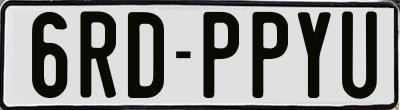6: (30, 12, 70, 98)
D: (126, 12, 165, 101)
P: (249, 9, 287, 101), (200, 10, 239, 96)
R: (78, 11, 117, 103)
U: (342, 9, 380, 97)
Y: (296, 12, 333, 98)
